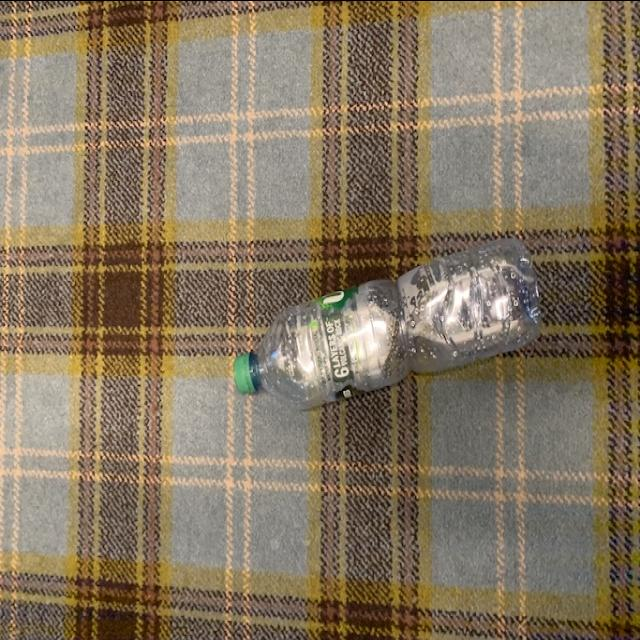PET: (232, 233, 548, 408)
